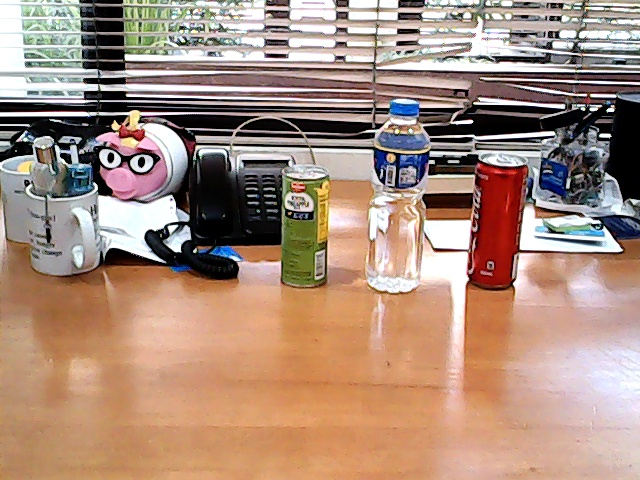Cola: (455, 141, 539, 307)
Pine Juice: (268, 156, 341, 295)
Summit Water: (353, 84, 438, 306)
